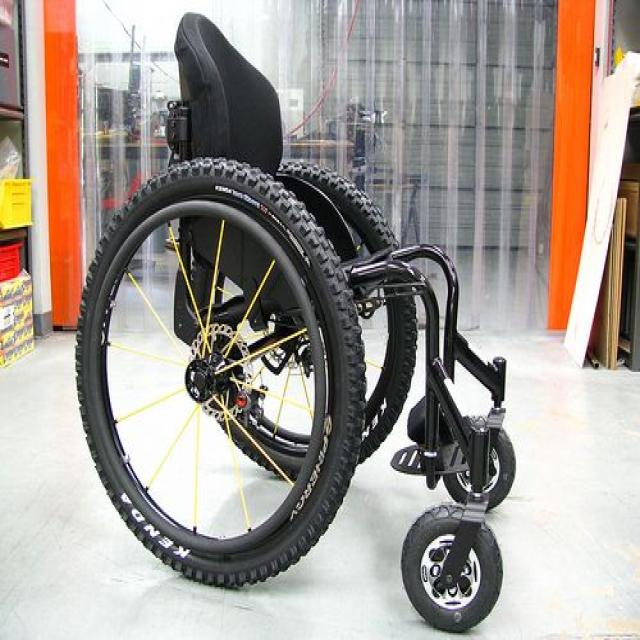wheelchairs: (78, 12, 531, 633)
